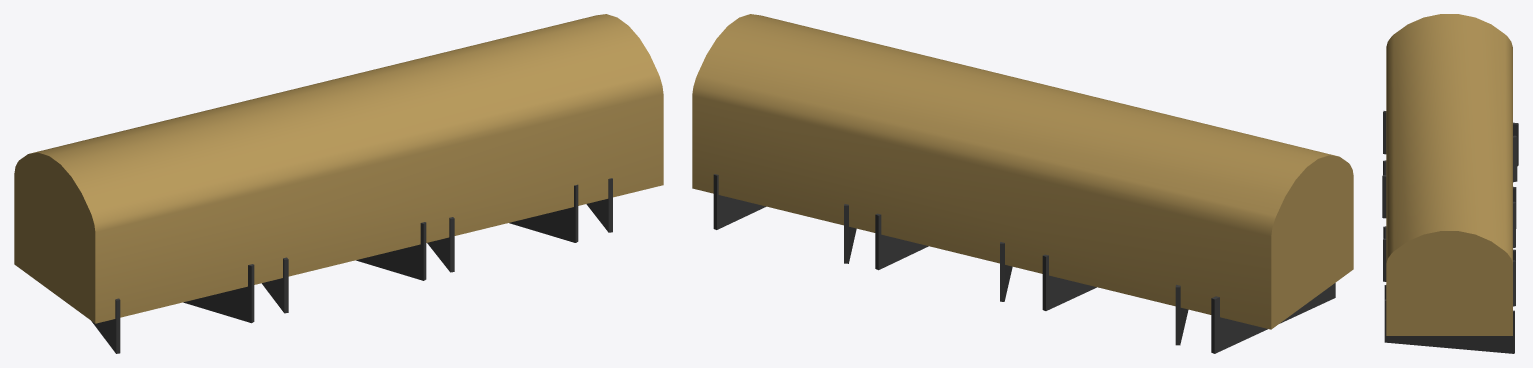
Rendered from raxketta.fbx.
3 views of the same model, side by side, from view 1: azimuth 30°, elevation 25°; view 2: azimuth 150°, elevation 25°; view 3: azimuth 270°, elevation 25° (orthographic). The views are drawn at different scales.
Parts seen in each view (by area): view 1: Cube.009; view 2: Cube.009; view 3: Cube.009.
Boxes of the visible parts, box(x1,y1,x2,y2) form: Cube.009: box(14, 14, 663, 353); Cube.009: box(692, 14, 1353, 353); Cube.009: box(1382, 14, 1518, 353).
Size of the model in its own units: 810 by 231 by 215.
